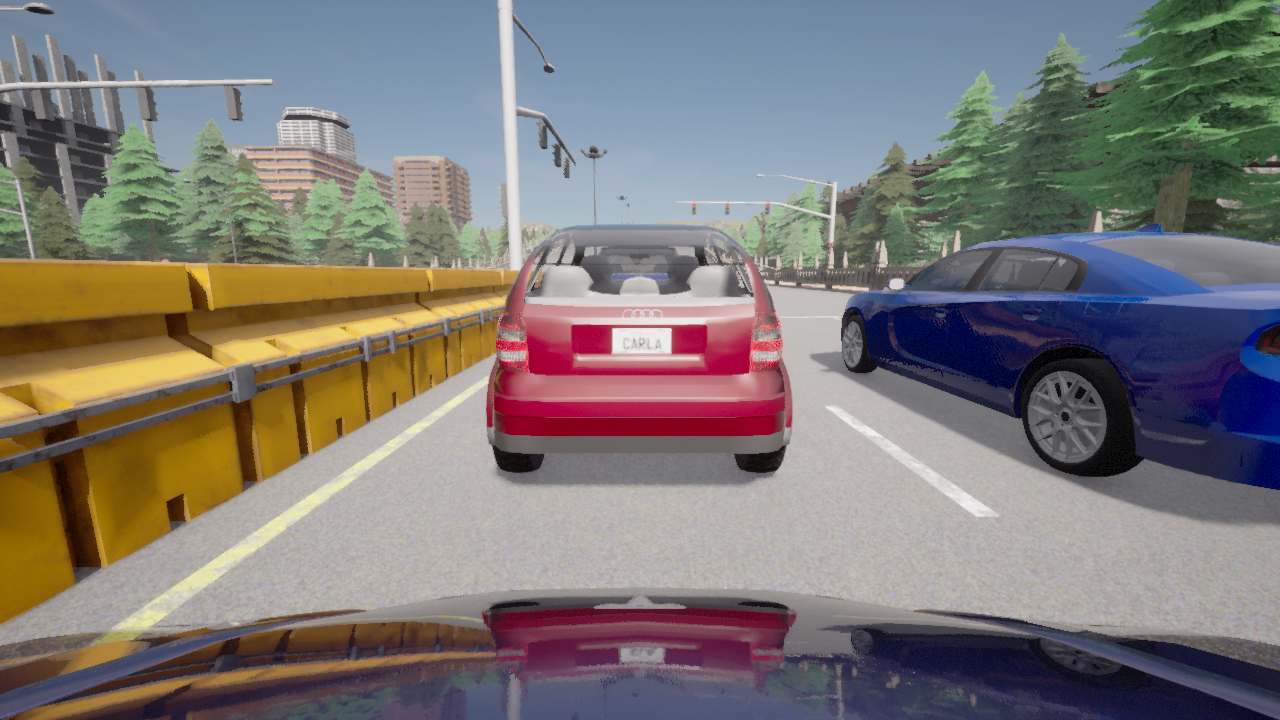cyclist: (0, 588, 1279, 719), (841, 223, 1279, 490), (486, 225, 792, 472)
pedestrian: (886, 260, 893, 266)
